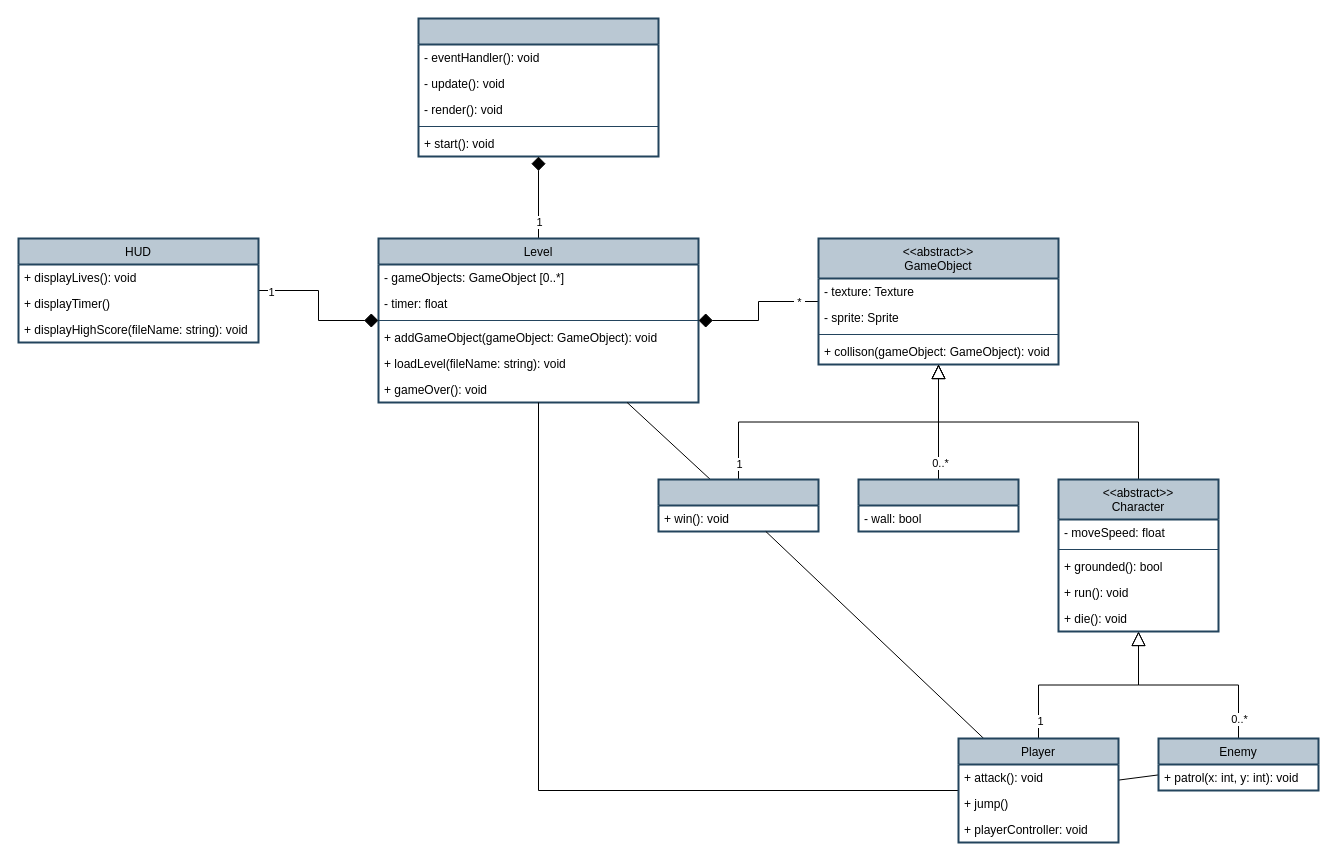
This 1336x862 diagram has some shape labels left out. The box of each missing label's shape, as (x1, y1, x2, y2) in pixels:
Game: (417, 17, 659, 157)
Goal: (657, 478, 819, 532)
Platform: (857, 478, 1019, 532)
